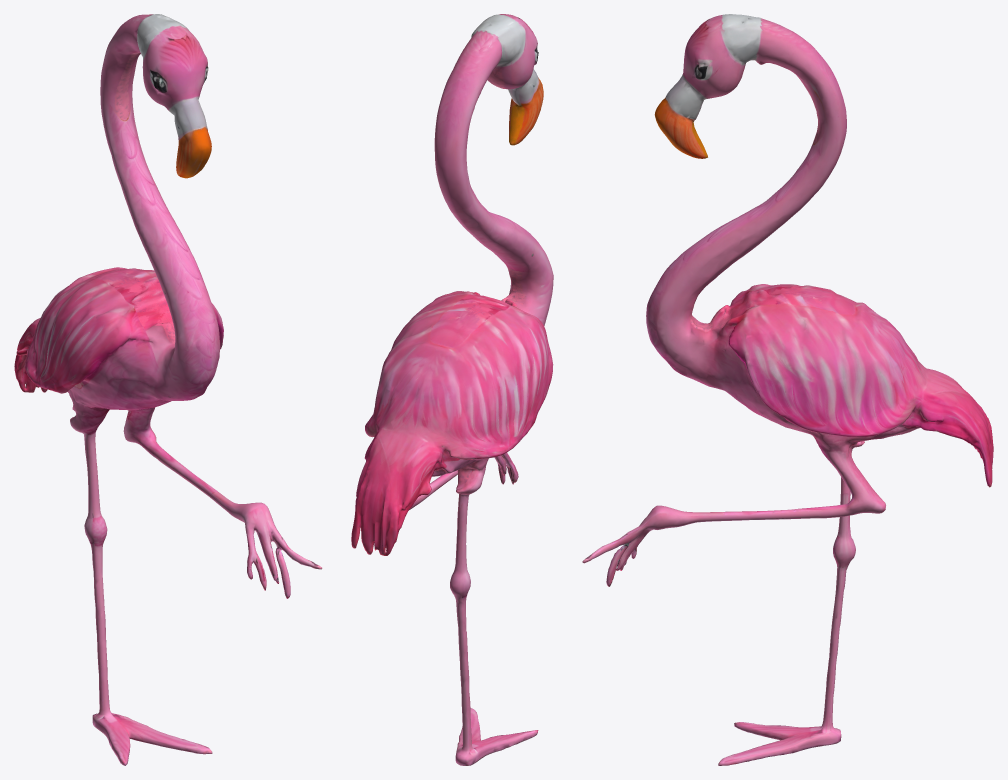
Rendered from pink_flamingo_lawn_or_0716005112_texture.fbx.
The picture shows the model from 3 angles, left to right: view 1: azimuth 30°, elevation 25°; view 2: azimuth 150°, elevation 25°; view 3: azimuth 270°, elevation 25°; orthographic projection. The views are drawn at different scales.
Parts seen in each view (by area): view 1: Mesh_0; view 2: Mesh_0; view 3: Mesh_0.
Part boxes in pixels (left/top/right/bottom): Mesh_0: left=14, top=14, right=322, bottom=765; Mesh_0: left=351, top=14, right=553, bottom=765; Mesh_0: left=582, top=14, right=993, bottom=765.
Bounding box in the file's own units: 43.68 × 200 × 102.
1 material, 1 textured.
